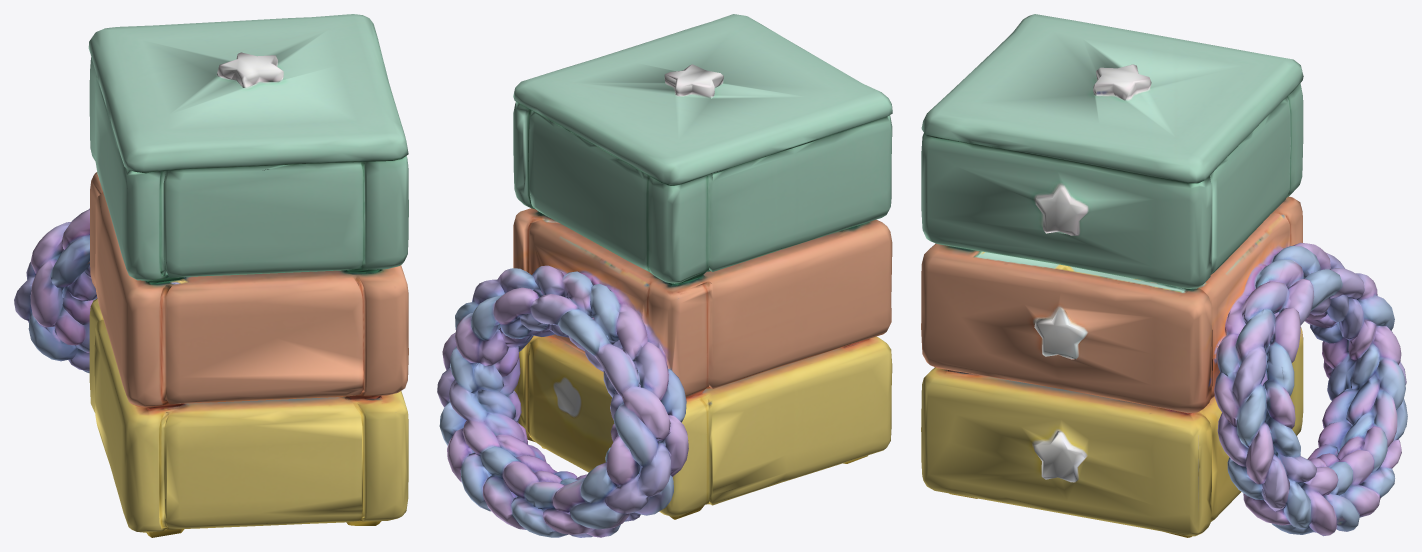
The picture shows the model from 3 angles, left to right: view 1: azimuth 30°, elevation 25°; view 2: azimuth 150°, elevation 25°; view 3: azimuth 270°, elevation 25°; orthographic projection. The views are drawn at different scales.
Visible parts, largest first — view 1: repaired; view 2: repaired; view 3: repaired.
Part boxes in pixels (box(x1,y1,x2,y2)): repaired: box(14, 14, 408, 537); repaired: box(437, 14, 892, 537); repaired: box(921, 14, 1407, 537).
Size of the model in its own units: 0.8589 by 0.9369 by 0.9993.
Materials: 1 (1 with a texture image).
